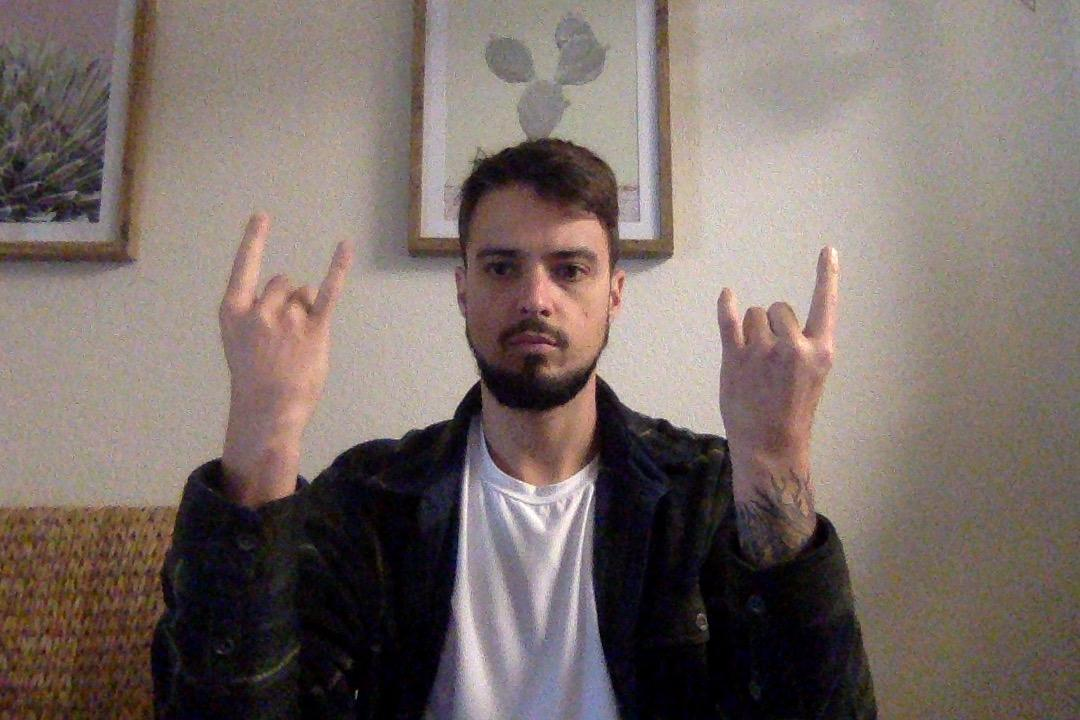Rock: (207, 201, 366, 455), (707, 240, 848, 481)
